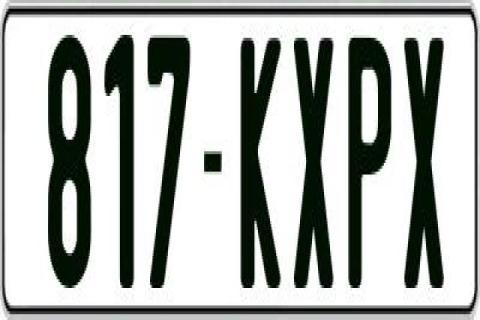0: (46, 32, 96, 285), (146, 29, 192, 297), (101, 35, 131, 299)
K: (240, 38, 284, 291)
P: (347, 38, 389, 297)
X: (404, 32, 448, 296), (292, 35, 334, 294)
